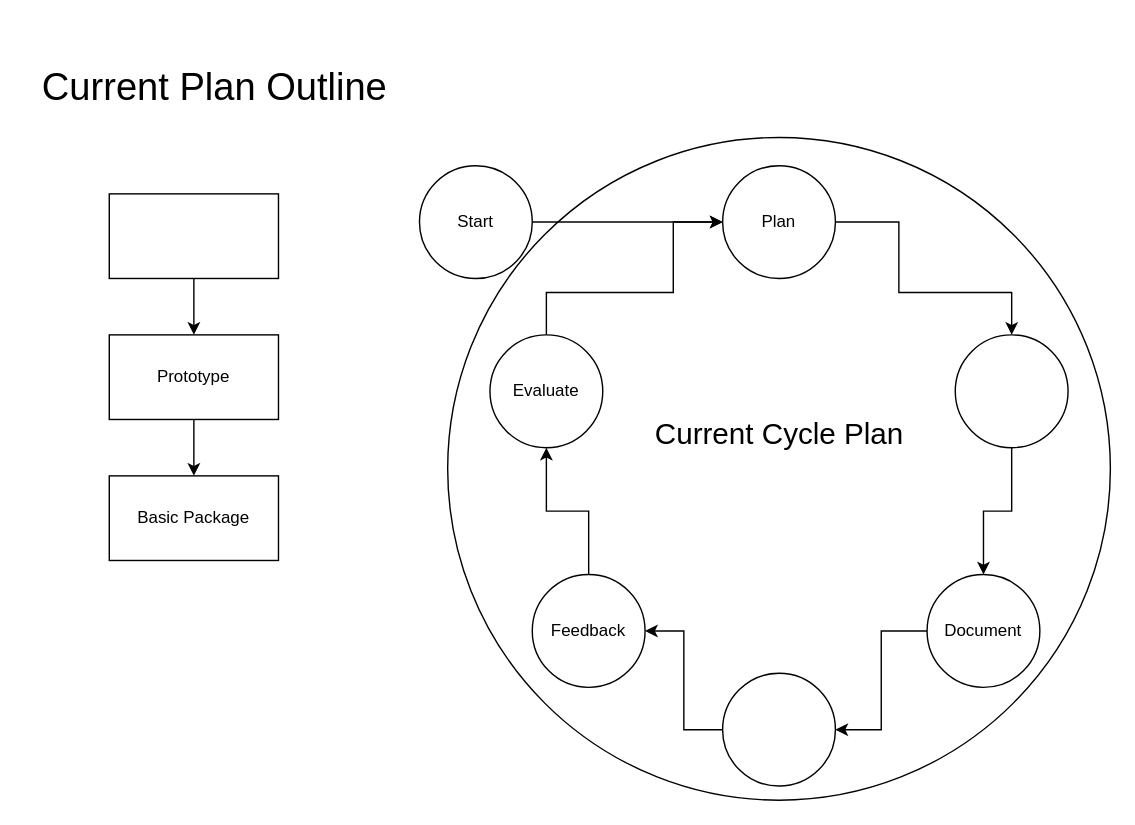
Image size: 1135x825. Some labels were removed from this diagram. The shapes that lost their labels are listed below. From the top down, each one's box as (x1, y1, x2, y2) in pixels, then its label:
(108, 192, 278, 278): Hello World Experiment
(954, 333, 1068, 448): Develop
(721, 672, 835, 786): Package
